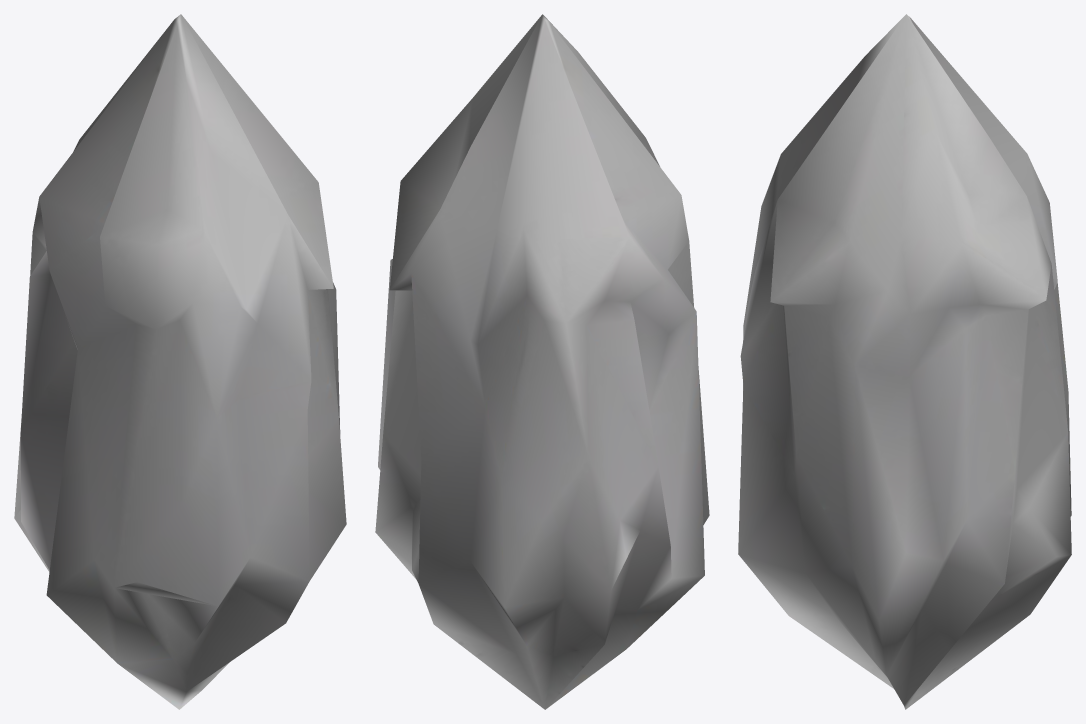
The model's file is crystal.fbx.
The picture shows the model from 3 angles, left to right: view 1: azimuth 30°, elevation 25°; view 2: azimuth 150°, elevation 25°; view 3: azimuth 270°, elevation 25°; orthographic projection.
Parts seen in each view (by area): view 1: tripo_node_af5f417e; view 2: tripo_node_af5f417e; view 3: tripo_node_af5f417e.
Part boxes in pixels (bbox=[...]): tripo_node_af5f417e: bbox=[14, 14, 346, 709]; tripo_node_af5f417e: bbox=[375, 14, 709, 709]; tripo_node_af5f417e: bbox=[738, 14, 1071, 709].
Size of the model in its own units: 28.55 by 63.95 by 27.75.
